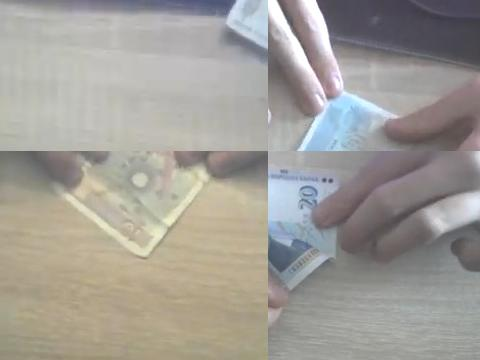10leva: (52, 151, 210, 259)
20leva: (268, 168, 343, 292), (296, 93, 413, 151)
